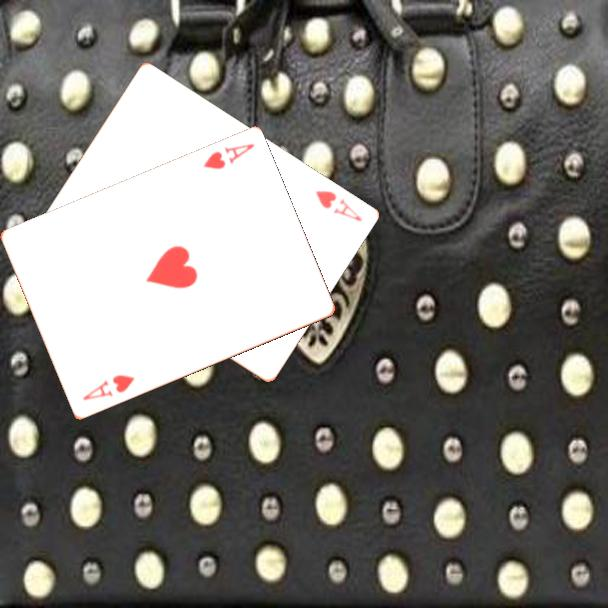h01: (311, 187, 365, 225), (79, 371, 138, 404), (199, 140, 257, 173)
